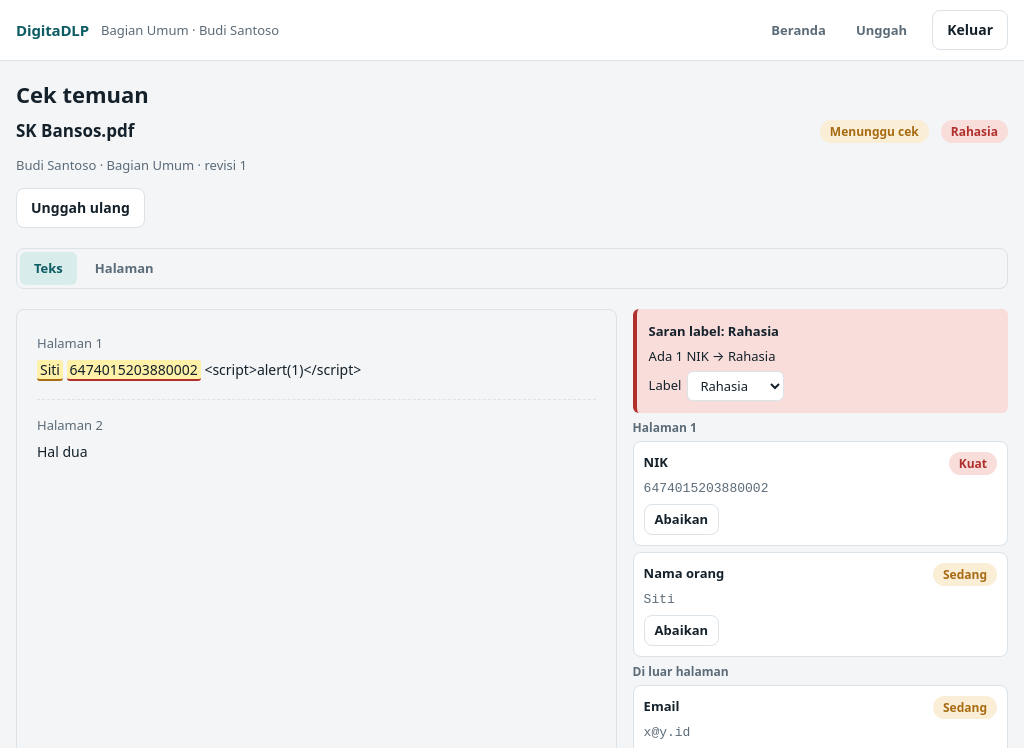
Scenario: abaikan posts correction and refetches
The image size is (1024, 748).
Expected: the heading "SK Bansos.pdf" is shown, x1=16 y1=121 x2=134 y2=142
Click the button "Abaikan" below "Kuat" at (681, 519), box x1=644 y1=504 x2=719 y2=535
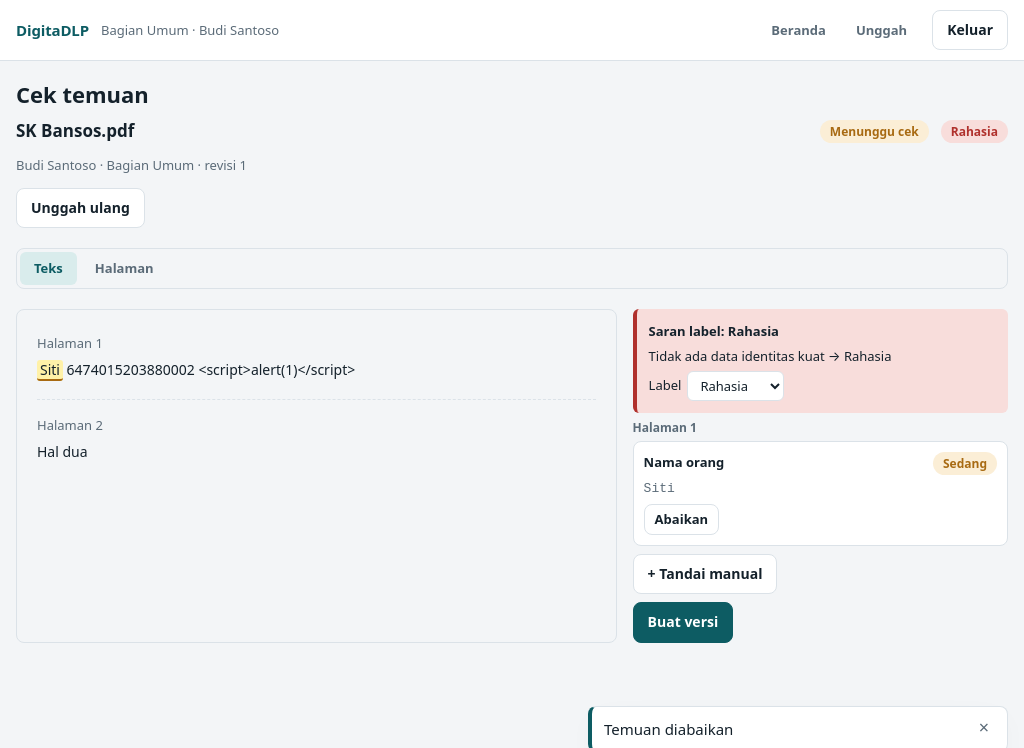
Expected: the text "Temuan diabaikan" is shown, x1=604 y1=719 x2=733 y2=739
